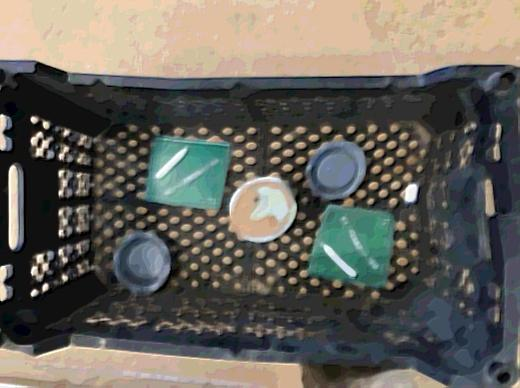non-flammable-gas: (310, 204, 398, 290), (148, 138, 230, 206)
